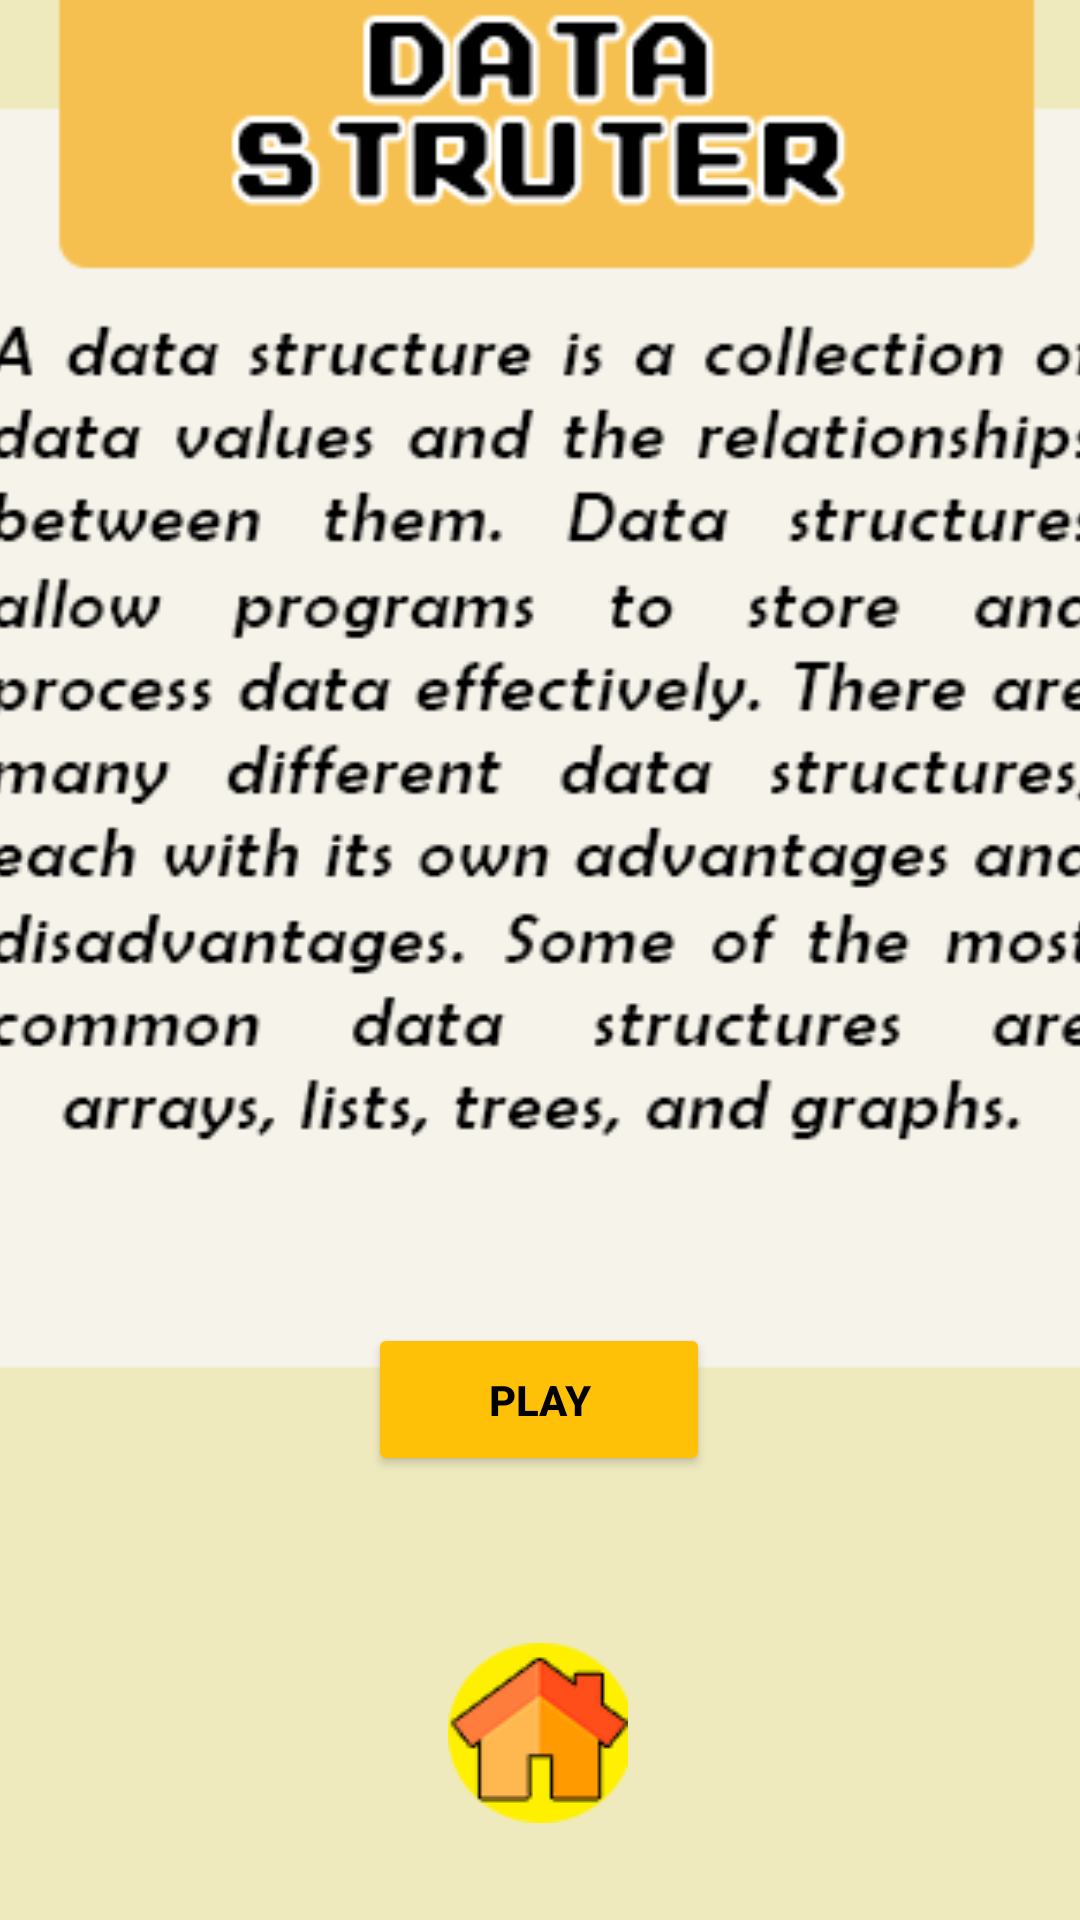

Icon bounding boxes for this 1080px x 1920px phone screenshot, format (x1, y1, x2, y2):
homeupdate: (448, 1643, 628, 1823)
